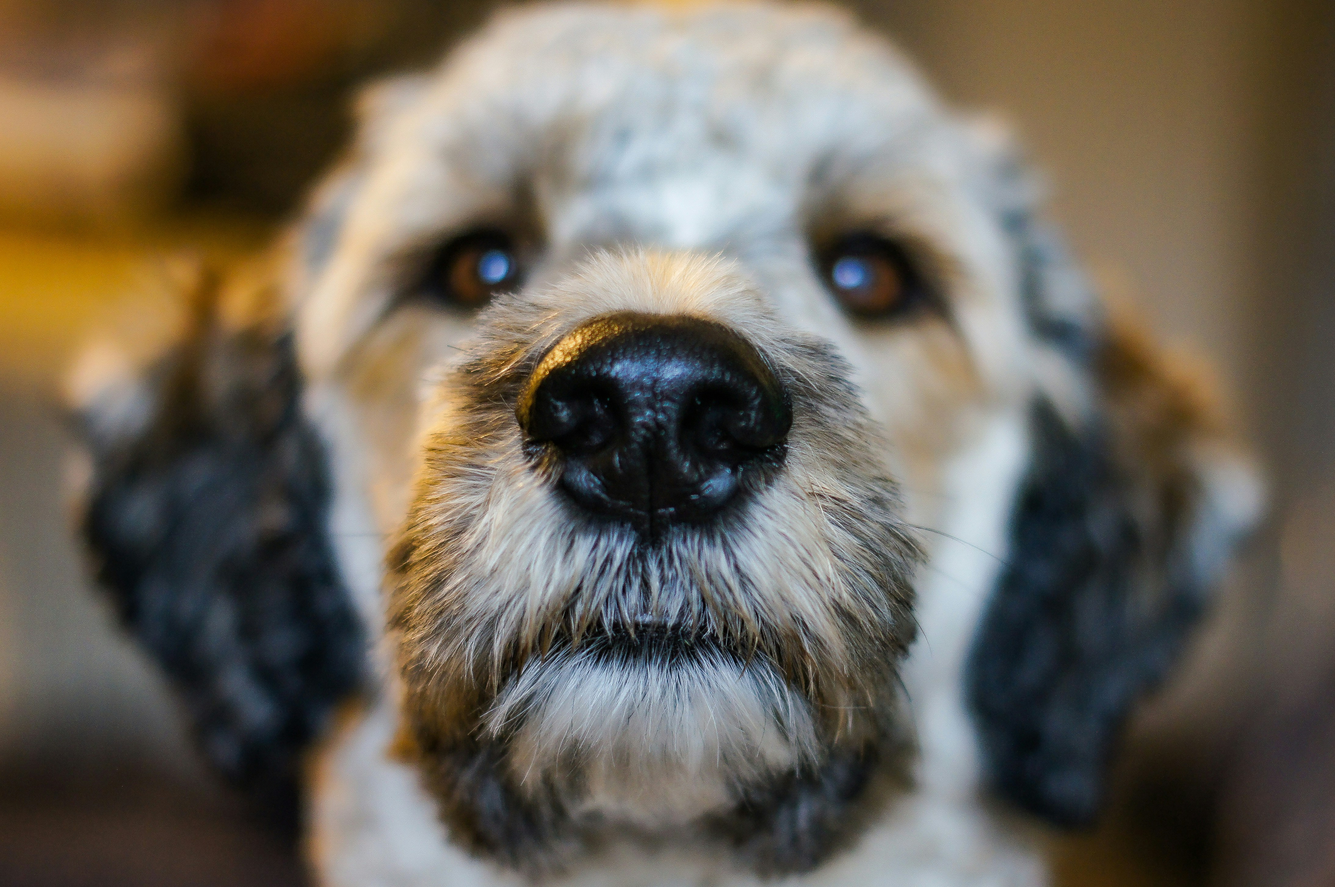dog-nose-detector: (517, 323, 789, 519)
